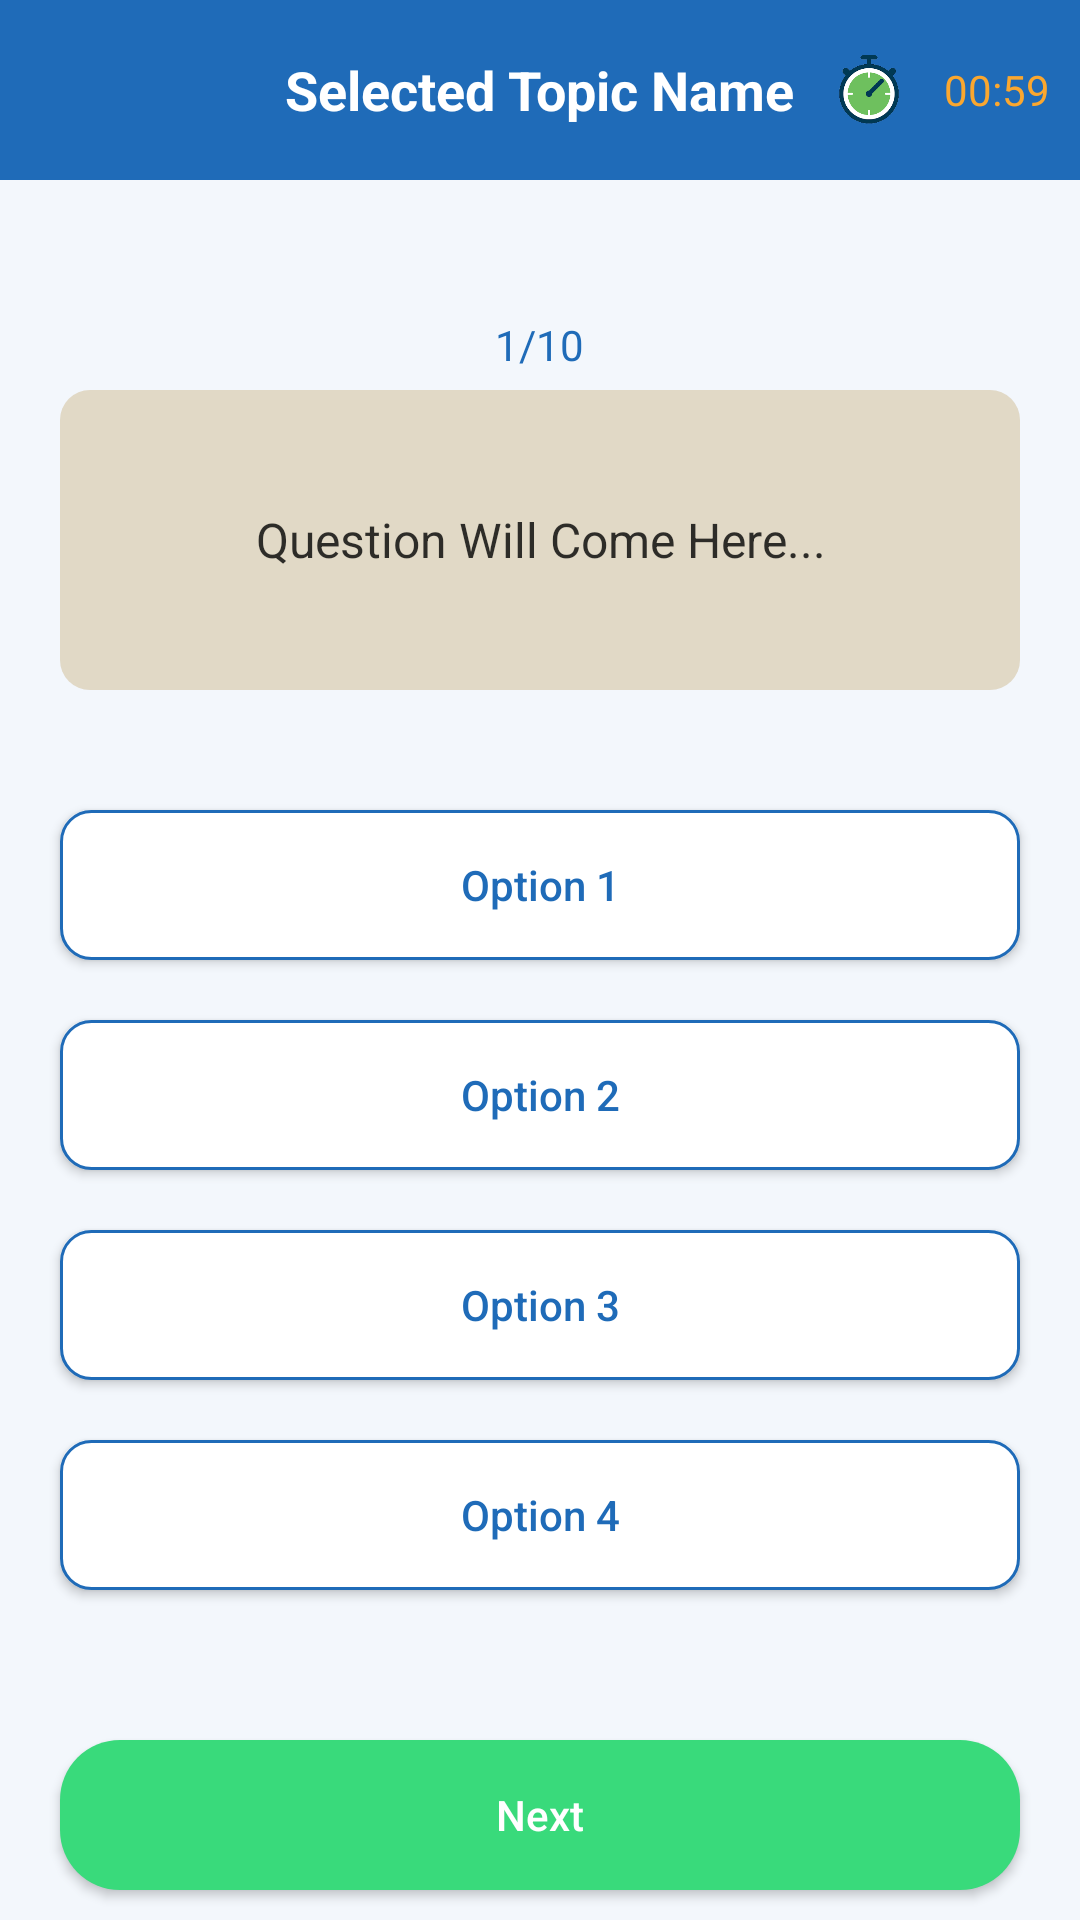

Named icons in this screenshot (1080*1920) and their bounding boxes, (x1, y1, x2, y2):
timer: (839, 55, 899, 124)
